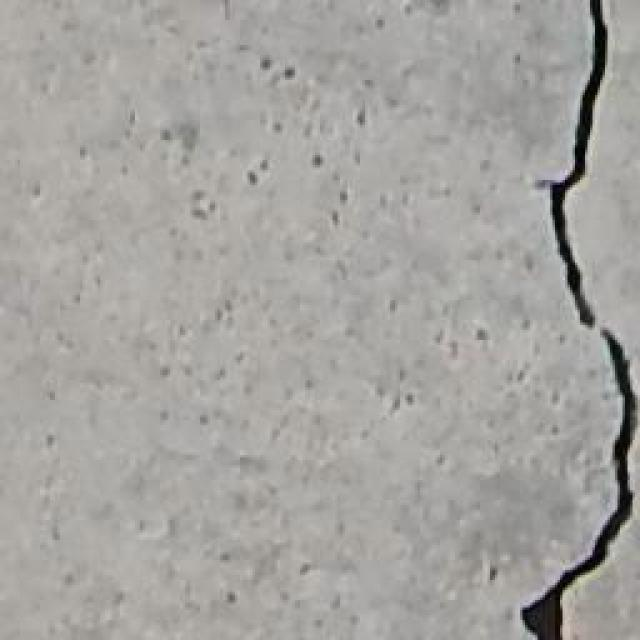concrete-crack: (520, 325, 635, 640), (550, 0, 608, 330)
